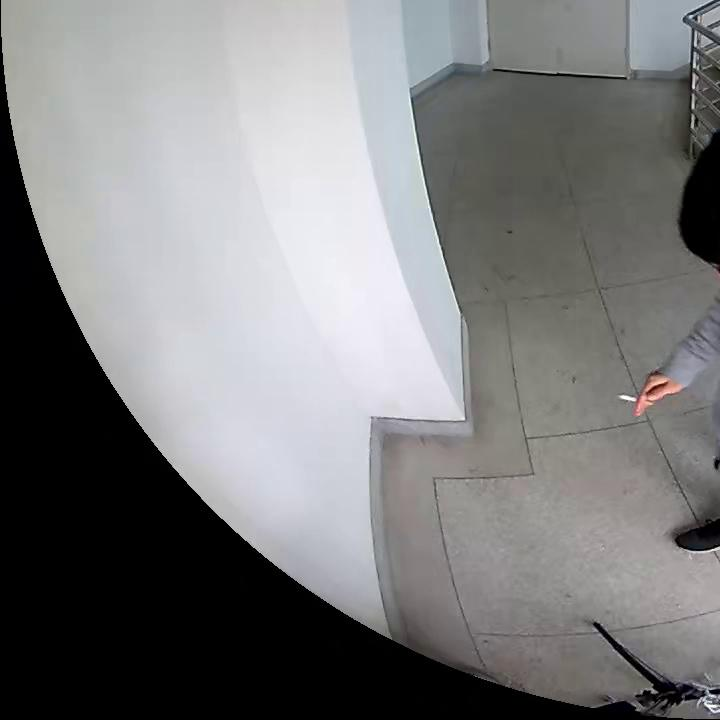handsmoke: (619, 371, 682, 419)
